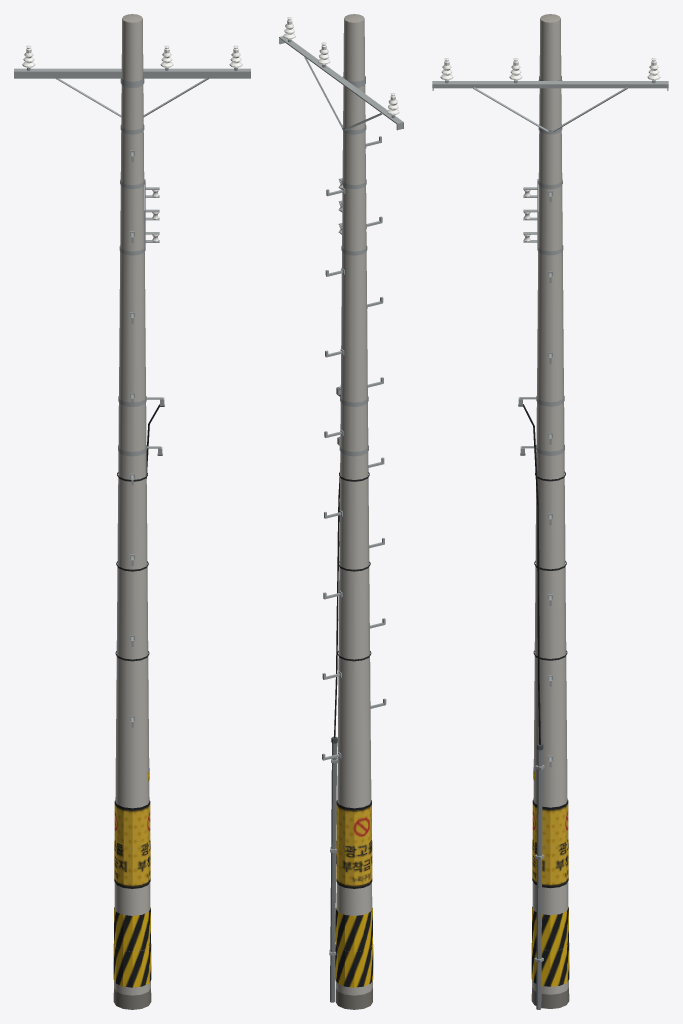
File: SC_Util_Pole_Concrete.gltf
The picture shows the model from 3 angles, left to right: view 1: azimuth 90°, elevation 25°; view 2: azimuth 210°, elevation 25°; view 3: azimuth 270°, elevation 25°; orthographic projection.
Visible parts, largest first — view 1: SC_Util_Pole_Concrete; view 2: SC_Util_Pole_Concrete; view 3: SC_Util_Pole_Concrete.
Part boxes in pixels (left/top/right/bottom): SC_Util_Pole_Concrete: left=14, top=14, right=250, bottom=1009; SC_Util_Pole_Concrete: left=279, top=14, right=403, bottom=1009; SC_Util_Pole_Concrete: left=432, top=14, right=668, bottom=1009.
Bounding box in the file's own units: 0.7372 × 11.02 × 2.4.
Materials: 2 (2 with a texture image).
